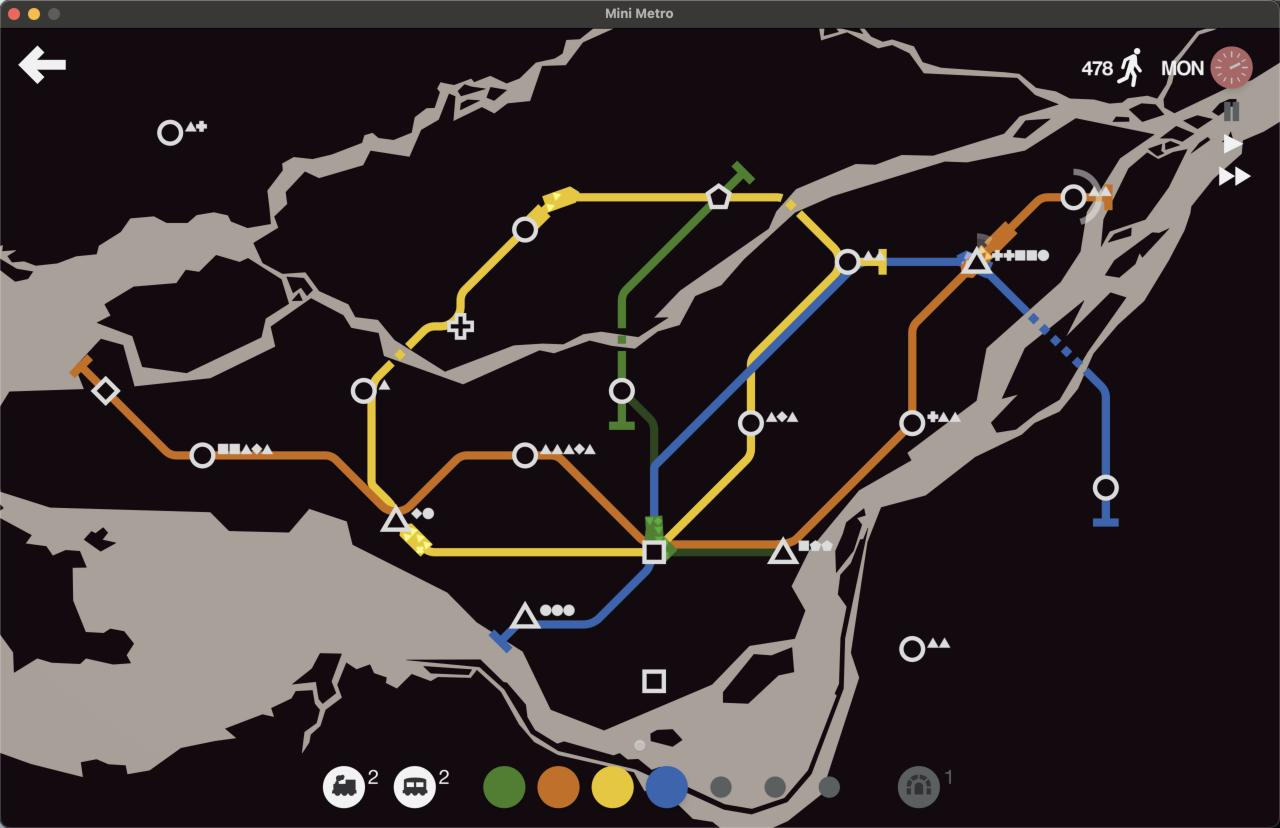CIRCLE: (898, 409, 927, 437), (1060, 183, 1088, 212), (1092, 473, 1120, 502), (511, 441, 540, 469), (899, 635, 927, 663), (188, 441, 216, 469), (156, 119, 184, 146), (511, 216, 539, 243), (608, 377, 636, 404), (737, 409, 764, 436), (350, 378, 377, 405), (835, 248, 861, 275)
CROSS: (447, 312, 475, 340)
GEM: (90, 376, 122, 406)
PENTAGON: (705, 183, 732, 210)
SQUARE: (641, 539, 668, 565), (642, 668, 667, 693)
TRIANGLE: (960, 244, 995, 275), (509, 600, 541, 631), (767, 536, 800, 566), (380, 503, 411, 534), (1223, 134, 1243, 155)
